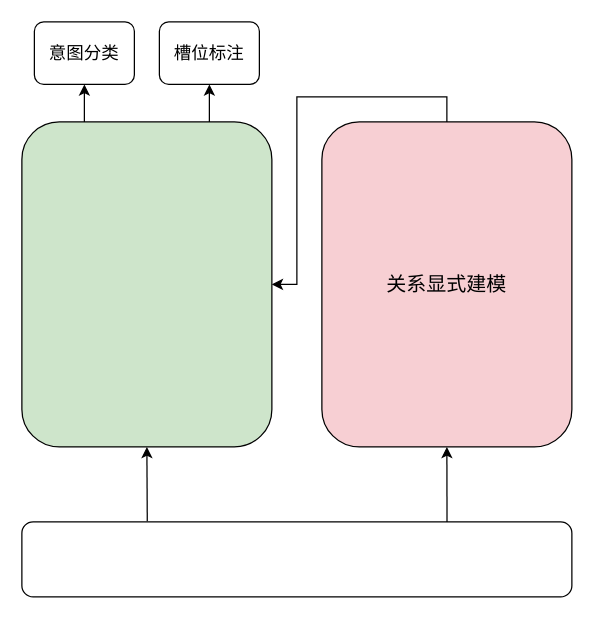
The diagram is 594 pixels wide and 619 high, and some of its shapes have lost their labels. Each missing label, with the centre of its shape:
"关系隐式建模" goes at point 146,284.
"用户输入文本" goes at point 296,559.
